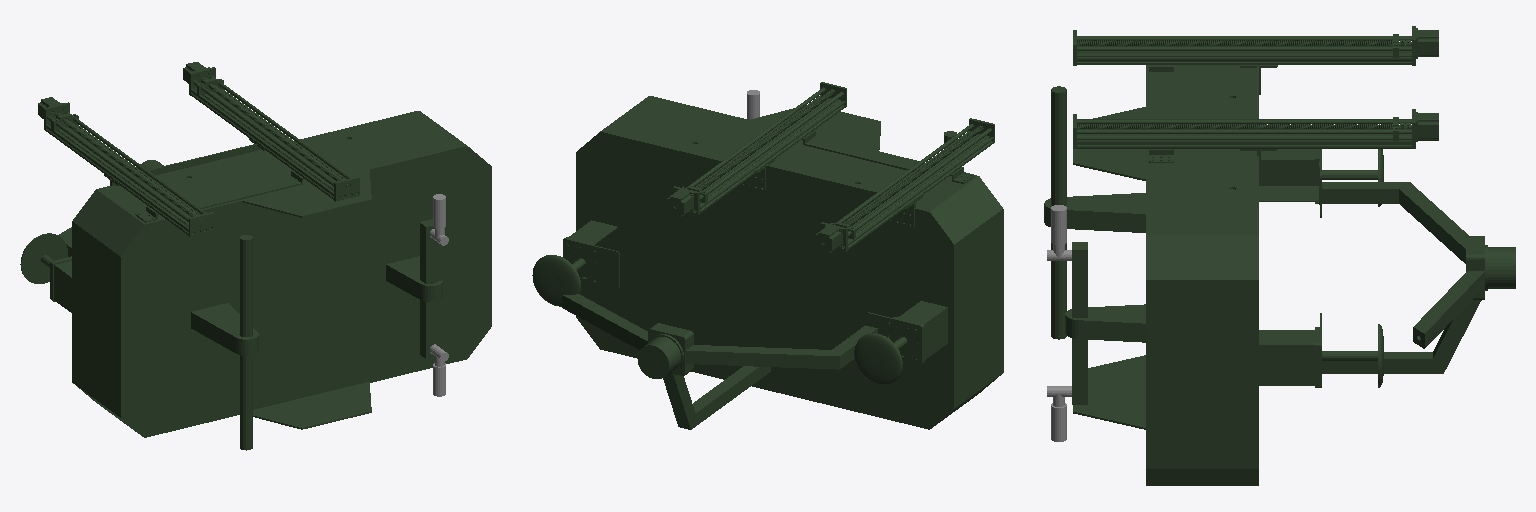
The robot description file, URDF, robot "00_all_20240516.SLDASM":
<?xml version="1.0" encoding="utf-8"?>
<!-- This URDF was automatically created by SolidWorks to URDF Exporter! Originally created by [author] ([email redacted]) 
     Commit Version: 1.6.0-4-g7f85cfe  Build Version: 1.6.7995.38578
     For more information, please see http://wiki.ros.org/sw_urdf_exporter -->
<robot
  name="00_all_20240516.SLDASM">
   <mujoco>
        <compiler 
        meshdir="./meshes/" 
        balanceinertia="true" 
        discardvisual="false" />
    </mujoco>
    <link name="base_link">
    <inertial>
      <origin
        xyz="-0.0019706202296848 0.495886382491066 0.00247624627925692"
        rpy="0 0 0" />
      <mass
        value="221.840208254302" />
      <inertia
        ixx="8.92015075465734"
        ixy="-0.00105260873786935"
        ixz="-9.01949150308231E-09"
        iyy="32.1946588327623"
        iyz="-0.000350461242846907"
        izz="26.0486633472126" />
    </inertial>
    <visual>
      <origin
        xyz="0 0 0"
        rpy="0 0 0" />
      <geometry>
        <mesh
          filename="./meshes/base_link_new.STL" />
      </geometry>
      <material
        name="">
        <color
          rgba="0.23921568627451 0.317647058823529 0.227450980392157 1" />
      </material>
    </visual>
    <collision>
      <origin
        xyz="0 0 0"
        rpy="0 0 0" />
      <geometry>
        <mesh
          filename="./meshes/base_link_new.STL" />
      </geometry>
    </collision>
  </link>
  
  
 <link
    name="right_steering_link">
    <inertial>
      <origin
        xyz="6.80529990138012E-08 0.0481378101660778 -0.0356570923133435"
        rpy="0 0 0" />
      <mass
        value="0.176526315644599" />
      <inertia
        ixx="0.000398378847484999"
        ixy="9.13462874959625E-10"
        ixz="-4.0494723325531E-10"
        iyy="8.68465290049922E-05"
        iyz="-5.82680934913678E-05"
        izz="0.000337394646985094" />
    </inertial>
    <visual>
      <origin
        xyz="0 0 0"
        rpy="0 0 0" />
      <geometry>
        <mesh
          filename="./meshes/right_steering_link.STL" />
      </geometry>
      <material
        name="">
        <color
          rgba="0.584313725490196 0.584313725490196 0.584313725490196 1" />
      </material>
    </visual>
    <collision>
      <origin
        xyz="0 0 0"
        rpy="0 0 0" />
      <geometry>
        <mesh
          filename="./meshes/right_steering_link.STL" />
      </geometry>
    </collision>
  </link>
  <joint
    name="right_steering_joint"
    type="revolute">
    <origin
      xyz="0.3125 0.1182 0.1792"
      rpy="1.5708 0 0" />
    <parent
      link="base_link" />
    <child
      link="right_steering_link" />
    <axis
      xyz="0 0 1" />
    <limit
      lower="0"
      upper="0"
      effort="0"
      velocity="0" />
  </joint>
  <link
    name="front_right_wheel_link">
    <inertial>
      <origin
        xyz="-1.11022302462516E-16 2.542901753666E-06 8.60422844084496E-16"
        rpy="0 0 0" />
      <mass
        value="4.37453171558408" />
      <inertia
        ixx="0.0315351561550306"
        ixy="1.05127048130847E-09"
        ixz="1.010566818379E-07"
        iyy="0.0565948206795637"
        iyz="-2.2275394397249E-09"
        izz="0.0315355592121123" />
    </inertial>
    <visual>
      <origin
        xyz="0 0 0"
        rpy="0 0 0" />
      <geometry>
        <mesh
          filename="./meshes/front_right_wheel_Link.STL" />
      </geometry>
      <material
        name="">
        <color
          rgba="0.0980392156862745 0.0980392156862745 0.0980392156862745 1" />
      </material>
    </visual>
    <collision>
      <origin
        xyz="0 0 0"
        rpy="0 0 0" />
      <geometry>
        <mesh
          filename="./meshes/front_right_wheel_Link.STL" />
      </geometry>
    </collision>
  </link>
  <joint
    name="front_right_wheel_joint"
    type="continuous">
    <origin
      xyz="0 0.1058 -0.0288"
      rpy="0 0 0" />
    <parent
      link="right_steering_link" />
    <child
      link="front_right_wheel_link" />
    <axis
      xyz="0 1 0" />
  </joint>
  <link
    name="left_steering_link">
    <inertial>
      <origin
        xyz="3.48167943364786E-07 -0.0481376256544499 -0.0356570940601337"
        rpy="0 0 0" />
      <mass
        value="0.176527430628724" />
      <inertia
        ixx="0.000398382023818714"
        ixy="-1.9266351413307E-09"
        ixz="1.09861088853459E-09"
        iyy="8.68477440948409E-05"
        iyz="5.82689456926219E-05"
        izz="0.00033739993637481" />
    </inertial>
    <visual>
      <origin
        xyz="0 0 0"
        rpy="0 0 0" />
      <geometry>
        <mesh
          filename="./meshes/left_steering_link.STL" />
      </geometry>
      <material
        name="">
        <color
          rgba="0.584313725490196 0.584313725490196 0.584313725490196 1" />
      </material>
    </visual>
    <collision>
      <origin
        xyz="0 0 0"
        rpy="0 0 0" />
      <geometry>
        <mesh
          filename="./meshes/left_steering_link.STL" />
      </geometry>
    </collision>
  </link>
  <joint
    name="left_steering_joint"
    type="revolute">
    <origin
      xyz="0.3125 0.1182 -0.1792"
      rpy="1.5708 0 0" />
    <parent
      link="base_link" />
    <child
      link="left_steering_link" />
    <axis
      xyz="0 0 1" />
    <limit
      lower="0"
      upper="0"
      effort="0"
      velocity="0" />
  </joint>
  <link
    name="front_left_wheel_link">
    <inertial>
      <origin
        xyz="-5.55111512312578E-17 2.542901753666E-06 8.32667268468867E-16"
        rpy="0 0 0" />
      <mass
        value="4.37453171558409" />
      <inertia
        ixx="0.0315351561550306"
        ixy="1.05127049389272E-09"
        ixz="1.01056681838742E-07"
        iyy="0.0565948206795637"
        iyz="-2.22753943917868E-09"
        izz="0.0315355592121123" />
    </inertial>
    <visual>
      <origin
        xyz="0 0 0"
        rpy="0 0 0" />
      <geometry>
        <mesh
          filename="./meshes/front_left_wheel_Link.STL" />
      </geometry>
      <material
        name="">
        <color
          rgba="0.0980392156862745 0.0980392156862745 0.0980392156862745 1" />
      </material>
    </visual>
    <collision>
      <origin
        xyz="0 0 0"
        rpy="0 0 0" />
      <geometry>
        <mesh
          filename="./meshes/front_left_wheel_Link.STL" />
      </geometry>
    </collision>
  </link>
  <joint
    name="front_left_wheel_joint"
    type="continuous">
    <origin
      xyz="0 -0.1058 -0.0288"
      rpy="3.1416 0 0" />
    <parent
      link="left_steering_link" />
    <child
      link="front_left_wheel_link" />
    <axis
      xyz="0 1 0" />
  </joint>

  <link
    name="rear_left_wheel_Link">
    <inertial>
      <origin
        xyz="-1.11022302462516E-16 2.54252280290634E-06 5.55111512312578E-17"
        rpy="0 0 0" />
      <mass
        value="4.37453859516945" />
      <inertia
        ixx="0.0315351229841474"
        ixy="1.05126273589486E-09"
        ixz="1.24097986259142E-08"
        iyy="0.0565948463128113"
        iyz="-2.2275227603392E-09"
        izz="0.0315357461064697" />
    </inertial>
    <visual>
      <origin
        xyz="0 0 0"
        rpy="0 0 0" />
      <geometry>
        <mesh
          filename="./meshes/rear_left_wheel_Link.STL" />
      </geometry>
      <material
        name="">
        <color
          rgba="0.0941176470588235 0.0941176470588235 0.0941176470588235 1" />
      </material>
    </visual>
    <collision>
      <origin
        xyz="0 0 0"
        rpy="0 0 0" />
      <geometry>
        <mesh
          filename="./meshes/rear_left_wheel_Link.STL" />
      </geometry>
    </collision>
  </link>
  <joint
    name="rear_left_wheel_joint"
    type="continuous">
    <origin
      xyz="-0.3125 0.147 -0.285"
      rpy="-1.5708 0 0" />
    <parent
      link="base_link" />
    <child
      link="rear_left_wheel_Link" />
    <axis
      xyz="0 1 0" />
  </joint>
  <link
    name="rear_right_wheel_Link">
    <inertial>
      <origin
        xyz="-1.66533453693773E-16 2.54252280296186E-06 5.55111512312578E-17"
        rpy="0 0 0" />
      <mass
        value="4.37453859516945" />
      <inertia
        ixx="0.0315351229841474"
        ixy="1.05126273421006E-09"
        ixz="1.2409798640954E-08"
        iyy="0.0565948463128113"
        iyz="-2.22752276417782E-09"
        izz="0.0315357461064698" />
    </inertial>
    <visual>
      <origin
        xyz="0 0 0"
        rpy="0 0 0" />
      <geometry>
        <mesh
          filename="./meshes/rear_right_wheel_Link.STL" />
      </geometry>
      <material
        name="">
        <color
          rgba="0.0941176470588235 0.0941176470588235 0.0941176470588235 1" />
      </material>
    </visual>
    <collision>
      <origin
        xyz="0 0 0"
        rpy="0 0 0" />
      <geometry>
        <mesh
          filename="./meshes/rear_right_wheel_Link.STL" />
      </geometry>
    </collision>
  </link>
  <joint
    name="rear_right_wheel_joint"
    type="continuous">
    <origin
      xyz="-0.3125 0.147 0.285"
      rpy="1.5708 0 0" />
    <parent
      link="base_link" />
    <child
      link="rear_right_wheel_Link" />
    <axis
      xyz="0 1 0" />
  </joint>
  <link
    name="handle_Link">
    <inertial>
      <origin
        xyz="-0.234704872570278 -0.0584311063078227 0.0186124620902271"
        rpy="0 0 0" />
      <mass
        value="0.475033567461396" />
      <inertia
        ixx="0.00125327572692415"
        ixy="-5.64646242053946E-06"
        ixz="5.56846130077087E-06"
        iyy="0.000635911785583766"
        iyz="-7.09521551255215E-07"
        izz="0.00171855765193228" />
    </inertial>
    <visual>
      <origin
        xyz="0 0 0"
        rpy="0 0 0" />
      <geometry>
        <mesh
          filename="./meshes/handle_Link.STL" />
      </geometry>
      <material
        name="">
        <color
          rgba="0.305882352941176 0.325490196078431 0.352941176470588 1" />
      </material>
    </visual>
    <collision>
      <origin
        xyz="0 0 0"
        rpy="0 0 0" />
      <geometry>
        <mesh
          filename="./meshes/handle_Link.STL" />
      </geometry>
    </collision>
  </link>
  <joint
    name="handle_joint"
    type="prismatic">
    <origin
      xyz="-0.4345 0.853 0.406"
      rpy="-3.1416 0 3.1416" />
    <parent
      link="base_link" />
    <child
      link="handle_Link" />
    <axis
      xyz="0 1 0" />
    <limit
      lower="-0.63"
      upper="0"
      effort="10"
      velocity="10" />
  </joint>
  <link
    name="plane_Link">
    <inertial>
      <origin
        xyz="-0.180014213457999 0.759611110587556 0.38477132691042"
        rpy="0 0 0" />
      <mass
        value="0.470938986775233" />
      <inertia
        ixx="0.00175620253820167"
        ixy="-1.97304911348525E-06"
        ixz="6.98796555667188E-09"
        iyy="0.00360992357319949"
        iyz="-3.77602873266335E-06"
        izz="0.00535854757504972" />
    </inertial>
    <visual>
      <origin
        xyz="0 -0.653 -0.37"
        rpy="0 0 0" />
      <geometry>
        <mesh
          filename="./meshes/plane_Link.STL" />
      </geometry>
      <material
        name="">
        <color
          rgba="0.305882352941176 0.325490196078431 0.352941176470588 1" />
      </material>
    </visual>
    <collision>
      <origin
        xyz="0 -0.653 -0.37"
        rpy="0 0 0" />
      <geometry>
        <mesh
          filename="./meshes/plane_Link.STL" />
      </geometry>
    </collision>
  </link>
  <joint
    name="plane_joint"
    type="revolute">
    <origin
      xyz="-0.4345 -0.2 0.036"
      rpy="-3.1416 0 3.1416" />
    <parent
      link="handle_Link" />
    <child
      link="plane_Link" />
    <axis
      xyz="1 0 0" />
    <limit
      lower="0"
      upper="1.6"
      effort="10"
      velocity="10" />
  </joint>
</robot>

--- What the picture shows (computed from the rendered views, not written in the file) ---
3 views of the same robot in one strip: view 1: azimuth 30°, elevation 25°; view 2: azimuth 150°, elevation 25°; view 3: azimuth 270°, elevation 25° (orthographic).
Robot: 00_all_20240516.SLDASM — 9 links, 8 joints (3 revolute, 4 continuous, 1 prismatic); root link base_link; default pose: every joint at zero.
Links seen in each view (by area): view 1: base_link, right_steering_link, left_steering_link; view 2: base_link; view 3: base_link, right_steering_link, left_steering_link.
Boxes of the visible links, x1,y1,x2,y2 form: base_link: (20, 62, 491, 450); right_steering_link: (430, 194, 448, 245); left_steering_link: (430, 344, 448, 396); base_link: (532, 82, 1003, 429); base_link: (1044, 26, 1515, 485); right_steering_link: (1047, 205, 1071, 260); left_steering_link: (1047, 386, 1071, 441).
Bounding box of the posed robot: 1.2 × 1.13 × 0.747 m (x, y, z).
Meshes: 9 distinct files referenced, 3 mesh visuals loaded (3 binary STL); not drawn: 6 (reference not matched to a file when rendering).